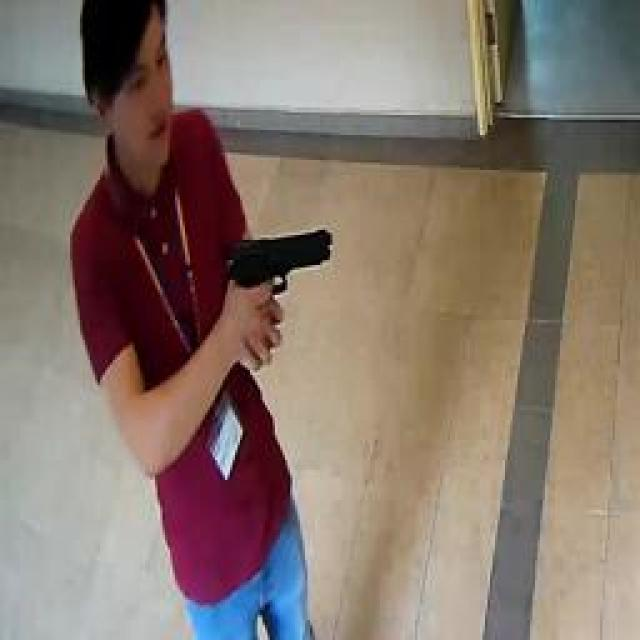Guns: (222, 212, 342, 317)
